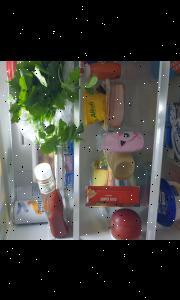Manzana: (107, 207, 141, 240)
Queso: (155, 178, 180, 225), (172, 114, 180, 164)
Salsa de tomate: (85, 185, 140, 206)
